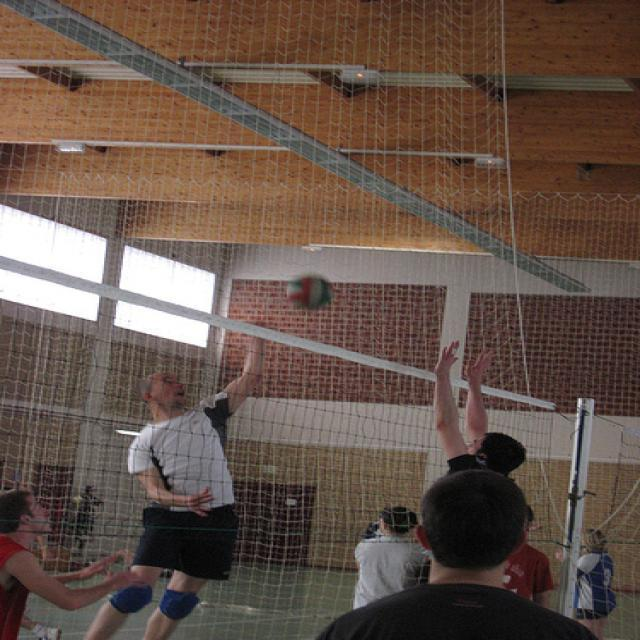volleyball: (288, 275, 330, 309)
